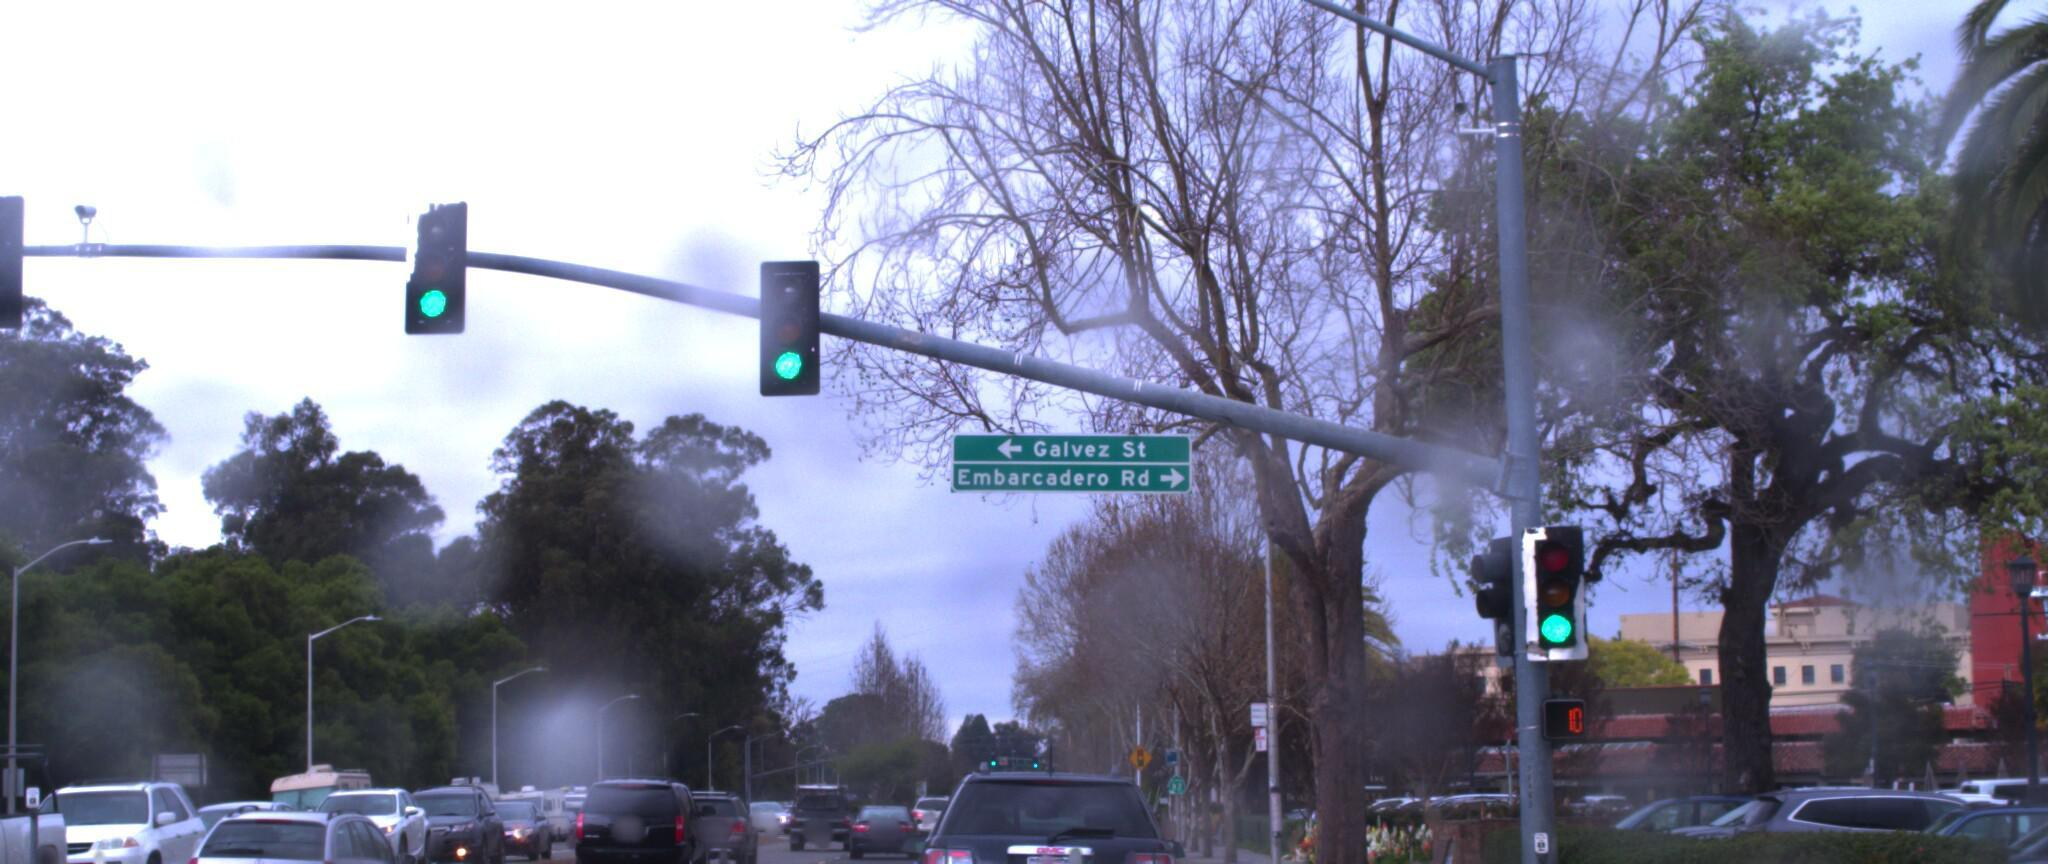car: (1702, 766, 2048, 864), (903, 754, 1196, 864), (0, 753, 219, 864), (168, 790, 439, 864), (1816, 780, 2048, 864), (571, 757, 722, 864), (287, 765, 441, 864), (0, 715, 84, 864), (381, 764, 513, 856), (675, 766, 777, 850), (1930, 797, 2048, 864), (844, 783, 920, 841), (2000, 810, 2048, 864)
